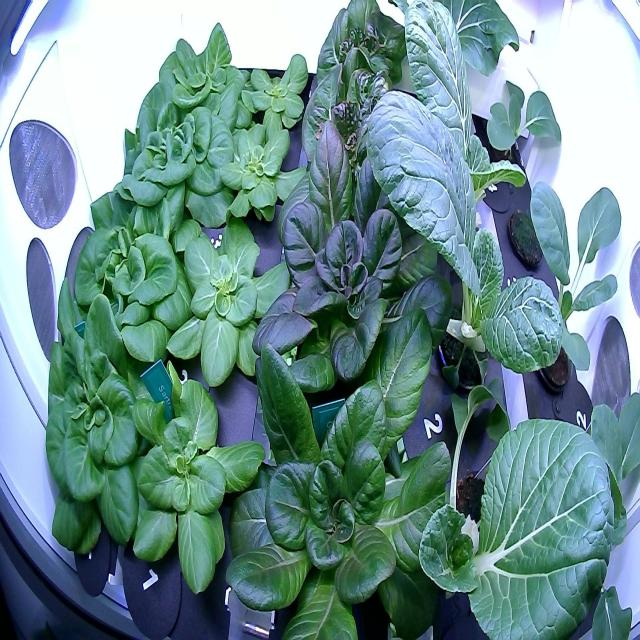pod: (502, 203, 549, 274)
young: (206, 300, 468, 640), (240, 110, 458, 416), (31, 292, 178, 562), (120, 360, 274, 606), (49, 176, 200, 369), (81, 75, 235, 249), (160, 209, 300, 398), (290, 47, 415, 210), (139, 17, 258, 152), (298, 0, 413, 121), (217, 120, 304, 242), (237, 43, 315, 139)
